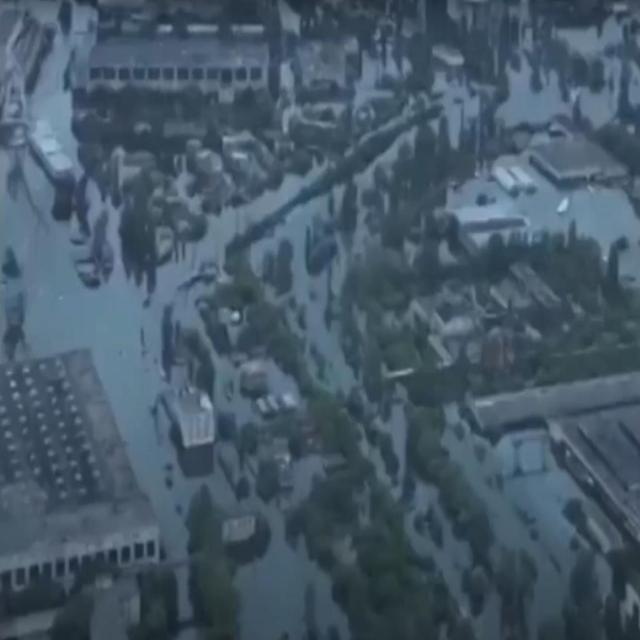flood: (0, 151, 302, 552), (440, 420, 570, 640), (233, 457, 350, 640), (30, 7, 74, 156), (481, 166, 579, 228), (558, 188, 640, 244), (436, 494, 473, 580), (556, 15, 621, 52), (495, 91, 559, 126), (476, 583, 501, 640), (578, 89, 610, 127), (449, 91, 463, 149)
house: (0, 337, 164, 603), (84, 33, 276, 101), (167, 386, 222, 450)
